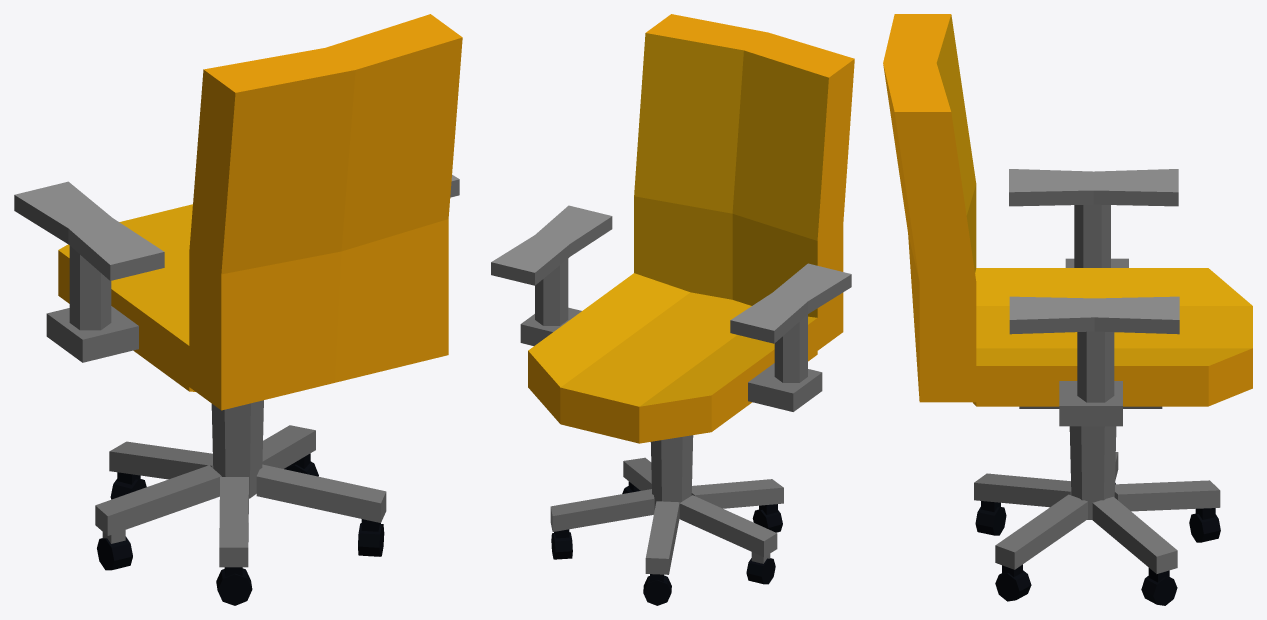
File: OfficeChairYellow.fbx
3 renders of one model, left to right at view 1: azimuth 30°, elevation 25°; view 2: azimuth 150°, elevation 25°; view 3: azimuth 270°, elevation 25°, orthographic. The views are drawn at different scales.
Parts seen in each view (by area): view 1: OfficeChair.001; view 2: OfficeChair.001; view 3: OfficeChair.001.
Part boxes in pixels (left/top/right/bottom): OfficeChair.001: left=14, top=14, right=462, bottom=605; OfficeChair.001: left=491, top=14, right=854, bottom=605; OfficeChair.001: left=883, top=14, right=1252, bottom=605.
Size of the model in its own units: 87.05 by 133 by 89.99.
